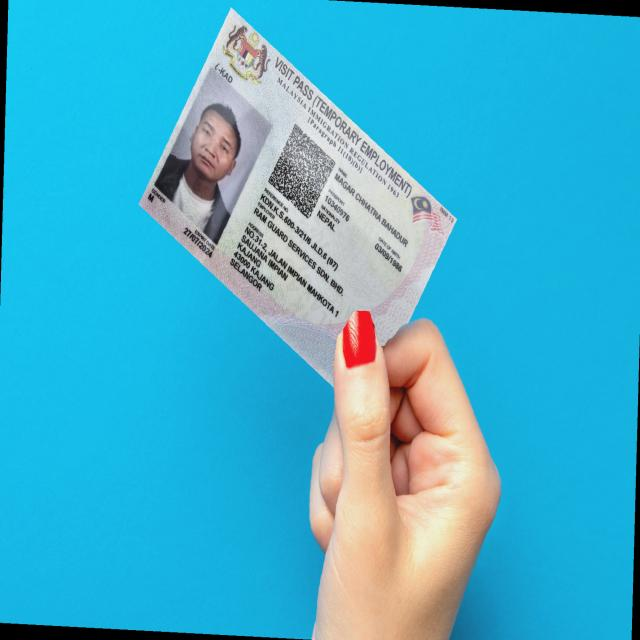ikad-temp: (138, 6, 457, 390)
